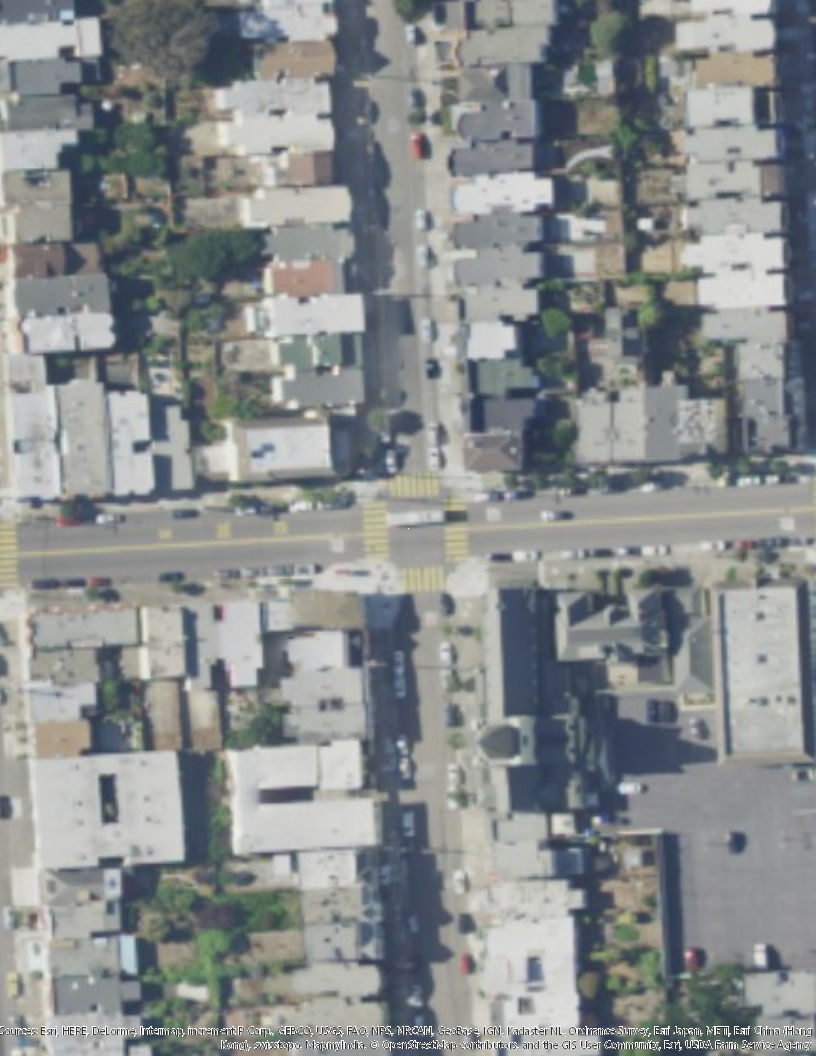zebracross: (361, 499, 392, 561), (392, 470, 443, 501), (445, 498, 470, 560), (1, 516, 17, 584), (403, 565, 444, 589)
